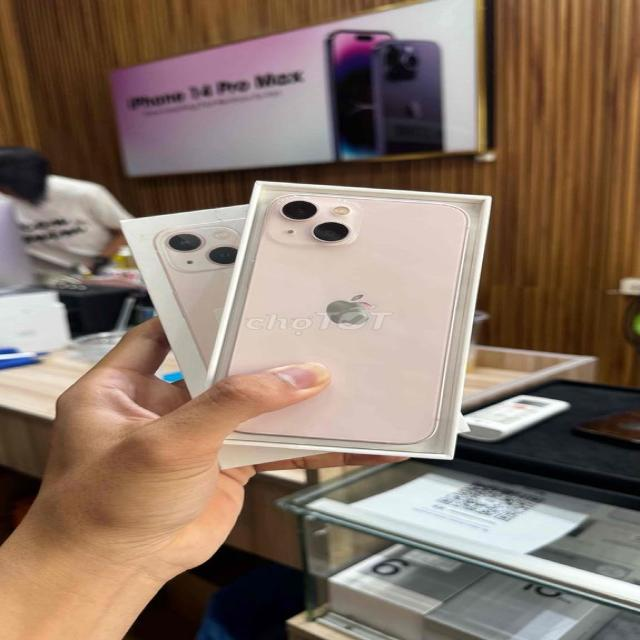gen_12_13: (205, 190, 481, 464)
